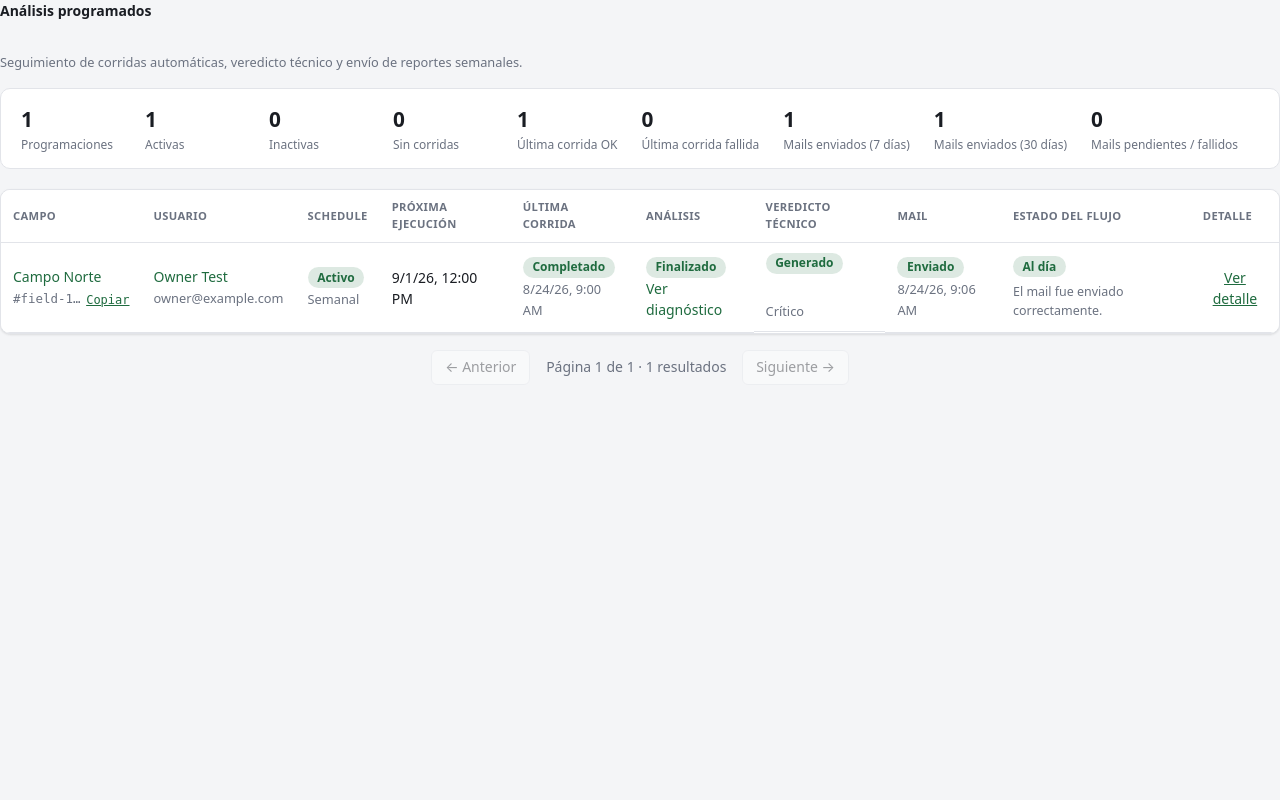
Scenario: ScheduledAnalysisComponent (PR 13B) › no rompe el bloque existente de Veredicto técnico individual — ambos conviven en el mismo detalle
Click the button with class "detail-toggle" at (1235, 288), box [1203,266,1267,308]
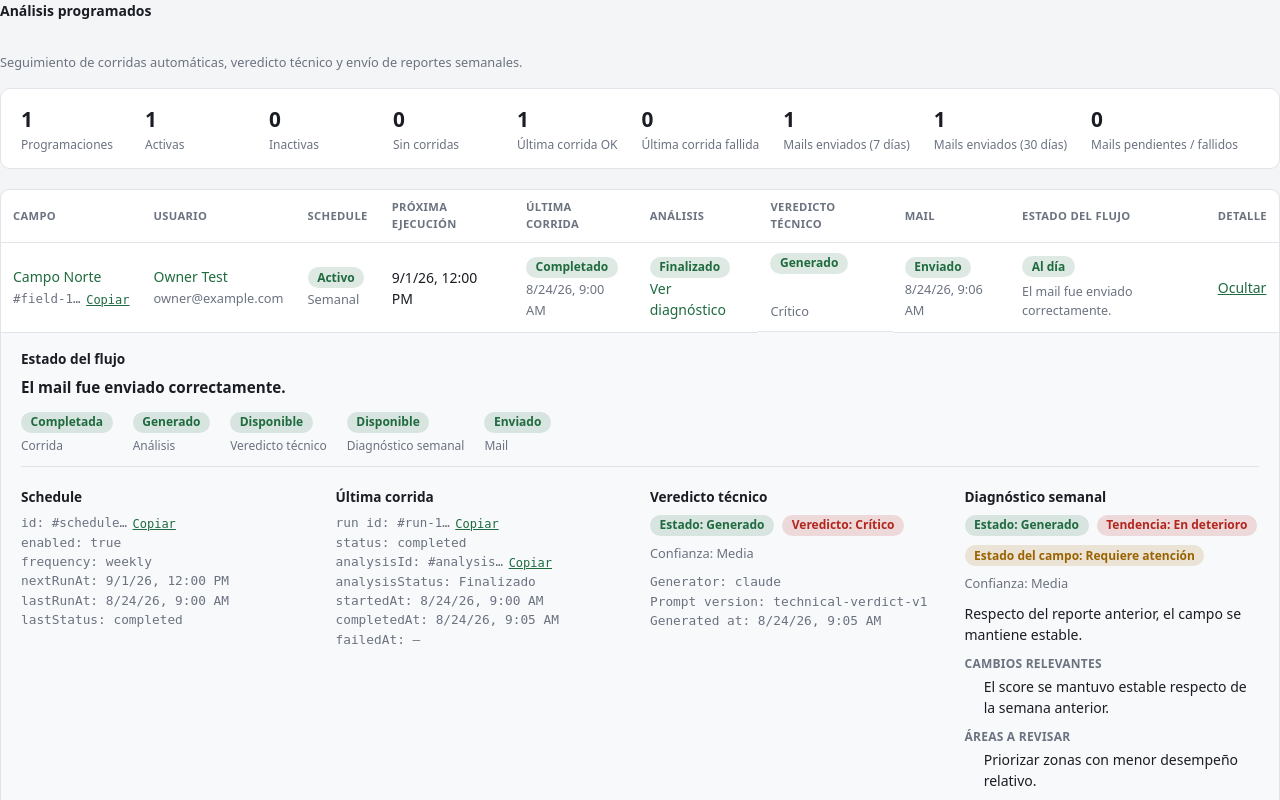
Expected: the text "Crítico" is shown, [770,302,809,322]
Now the text "Tendencia: En deterioro" is shown, box [1097,515,1257,536]
